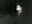person: (17, 5, 24, 17)
